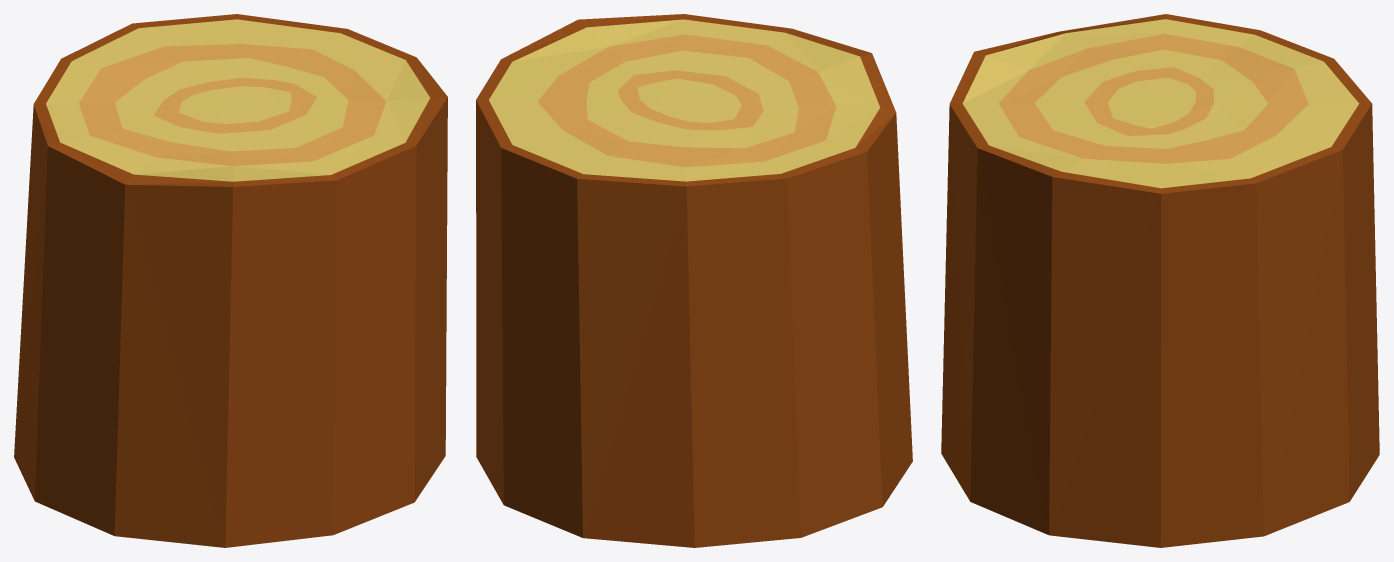
Rendered from TreeTrunk.fbx.
The picture shows the model from 3 angles, left to right: view 1: azimuth 30°, elevation 25°; view 2: azimuth 150°, elevation 25°; view 3: azimuth 270°, elevation 25°; orthographic projection.
Visible parts, largest first — view 1: ChoppingLog.001; view 2: ChoppingLog.001; view 3: ChoppingLog.001.
Part boxes in pixels (x1,y1,x2,y2): ChoppingLog.001: (14,14,447,547); ChoppingLog.001: (476,14,912,547); ChoppingLog.001: (941,14,1379,547).
Bounding box in the file's own units: 126 × 113 × 125.
